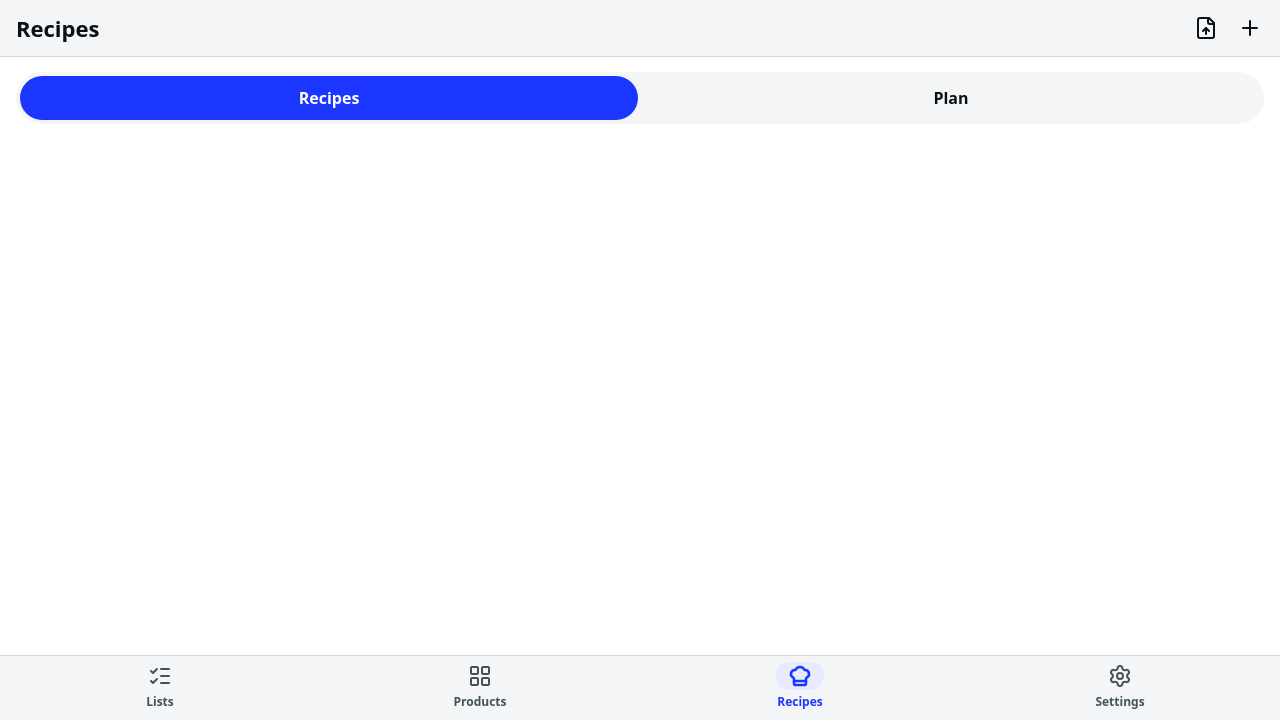
Test: Plan view › moves by 7 days and jumps back to today
This screenshot has width=1280, height=720.
Click the button "Plan" at (951, 98), box top-left (642, 76), bottom-right (1260, 120)
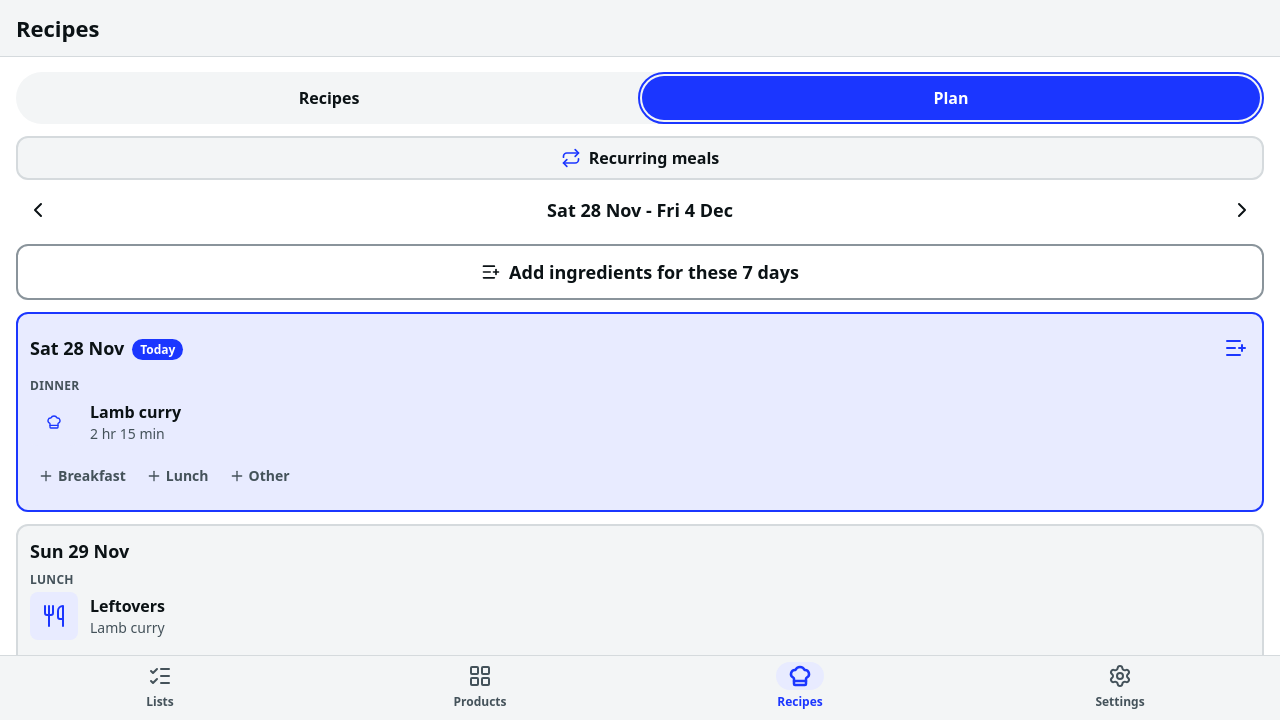
Click the button named "Next 7 days" at (1242, 210), box top-left (1220, 188), bottom-right (1264, 232)
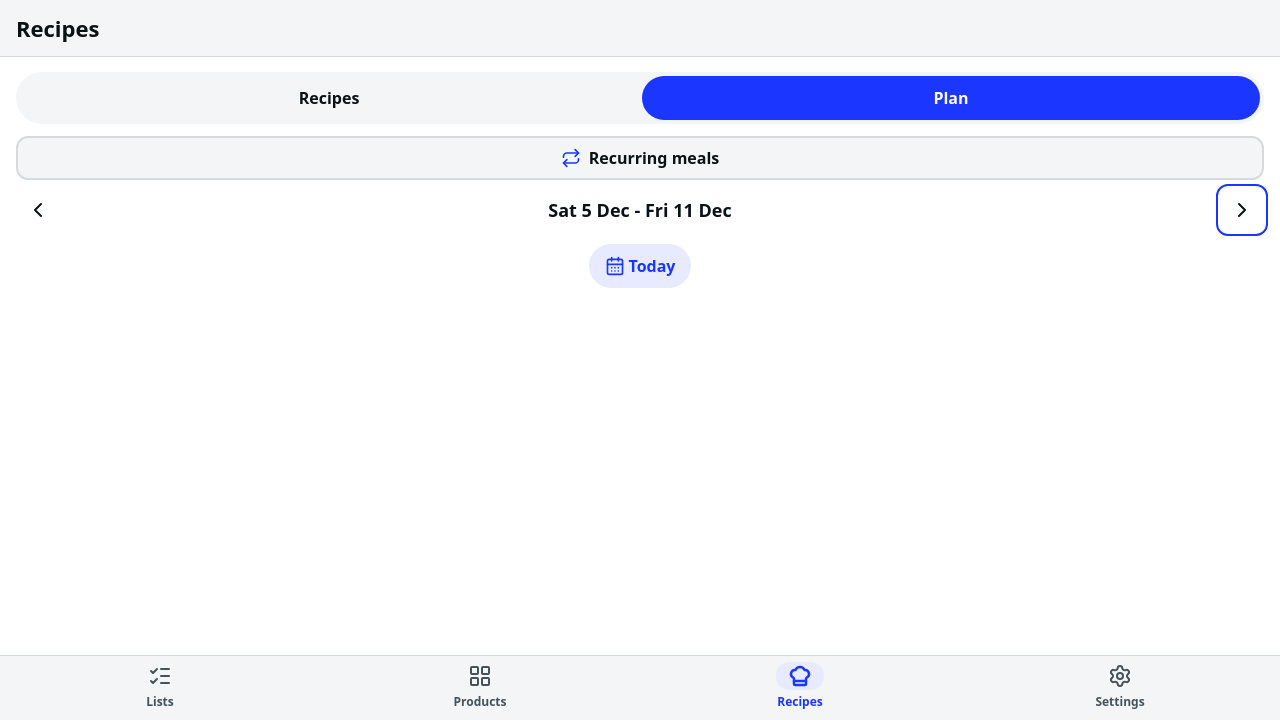
Check: the button "Today" is shown
Click the button "Today" at (640, 266), box top-left (588, 244), bottom-right (692, 288)
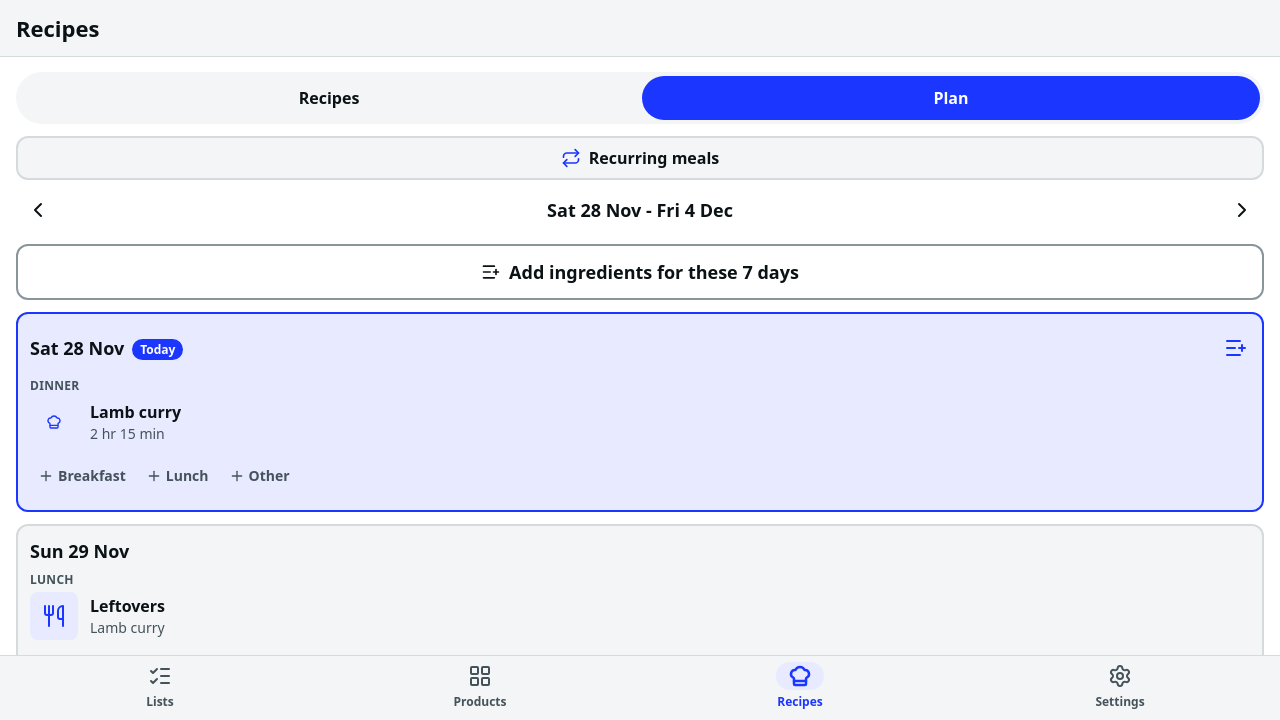
Check: the button "Lamb curry 2 hr 15 min" is shown, box top-left (30, 394), bottom-right (1250, 450)
